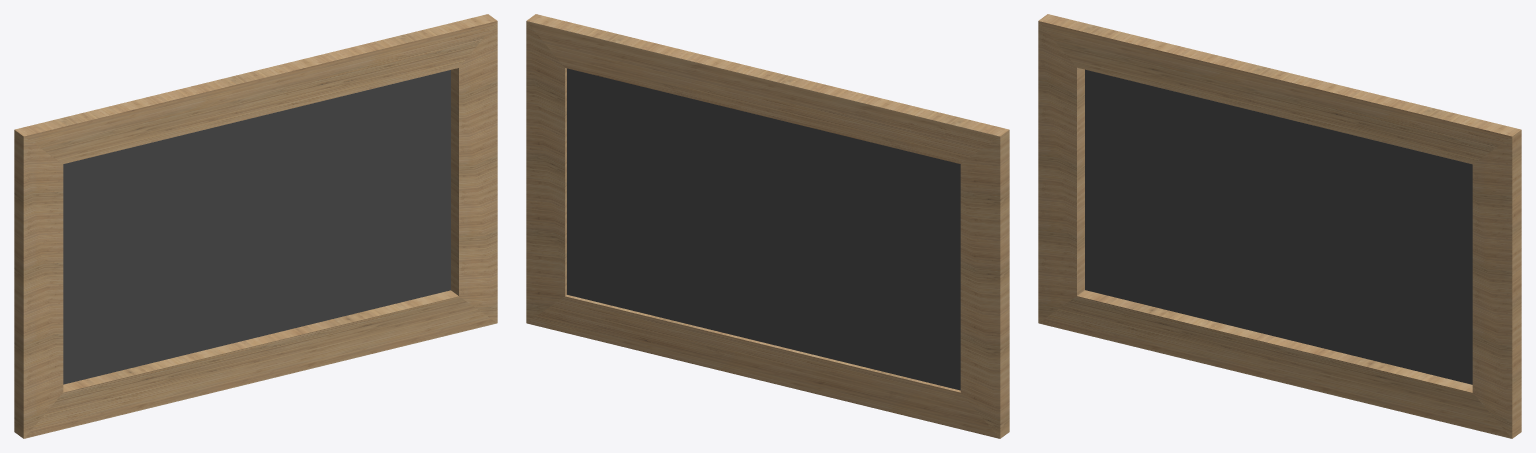
The model's file is largemirror.fbx.
3 renders of one model, left to right at view 1: azimuth 30°, elevation 25°; view 2: azimuth 150°, elevation 25°; view 3: azimuth 330°, elevation 25°, orthographic.
Visible parts, largest first — view 1: polySurface2569; view 2: polySurface2569; view 3: polySurface2569.
Part boxes in pixels (x1,y1,x2,y2): polySurface2569: (14,14,497,438); polySurface2569: (526,14,1009,438); polySurface2569: (1038,14,1521,438).
Bounding box in the file's own units: 20.68 × 12.61 × 0.7795.
Materials: 2 (1 with a texture image).
